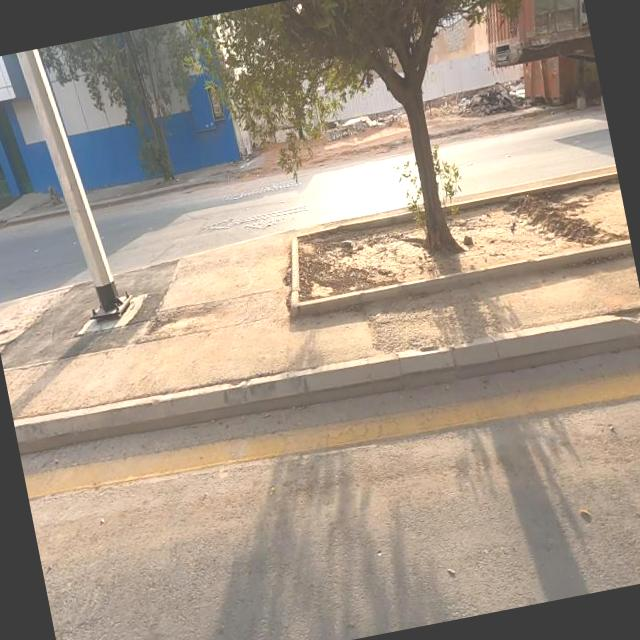debris: (418, 54, 558, 154), (308, 90, 400, 156)
